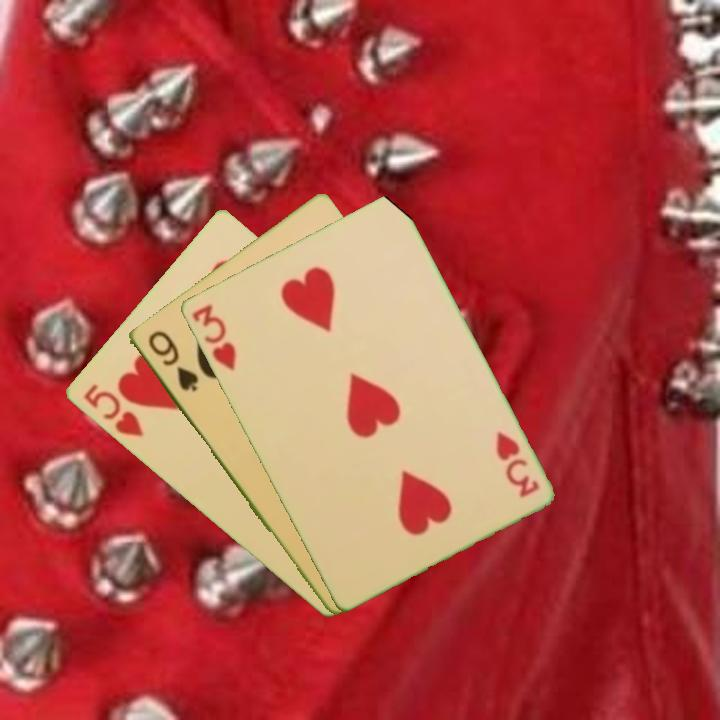3h: (187, 300, 239, 374), (491, 427, 542, 501)
5h: (79, 380, 146, 440)
9s: (143, 326, 201, 395)
